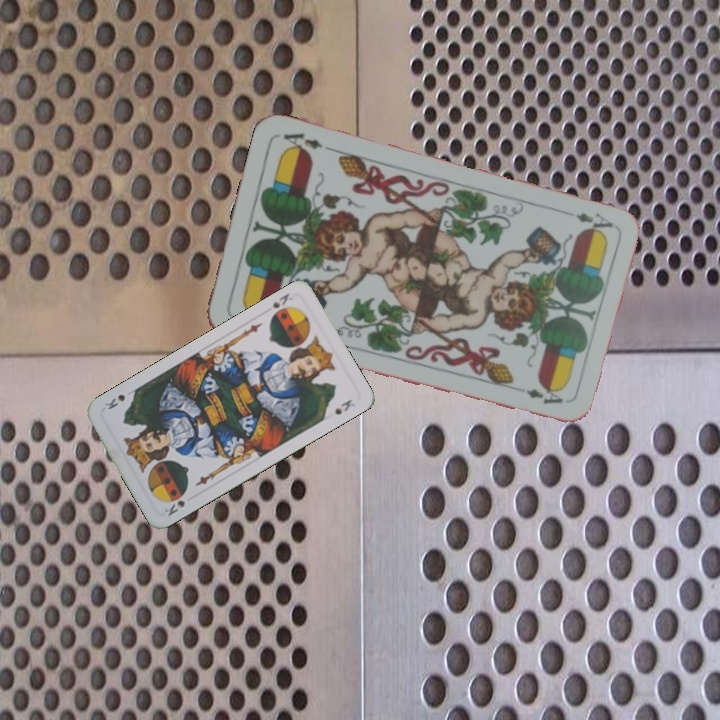EA: (571, 208, 616, 238)
SK: (163, 490, 188, 519), (268, 289, 295, 311)
